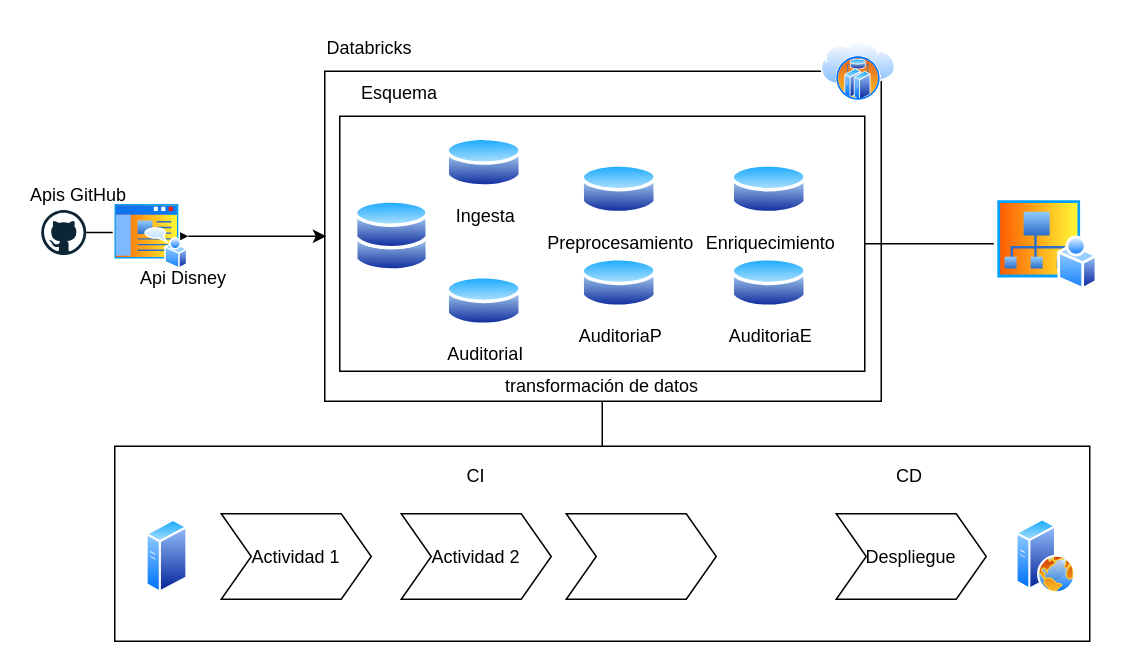
Some shapes in this 1124 by 668 pixel diagram are drawn without their labels. The shapes that lost their labels are listed below. From the top down, each one's box as (x1, y1, x2, y2) in pixels, then its label:
(354, 199, 429, 272): Bd Disney
(565, 512, 716, 599): Actividad 3
